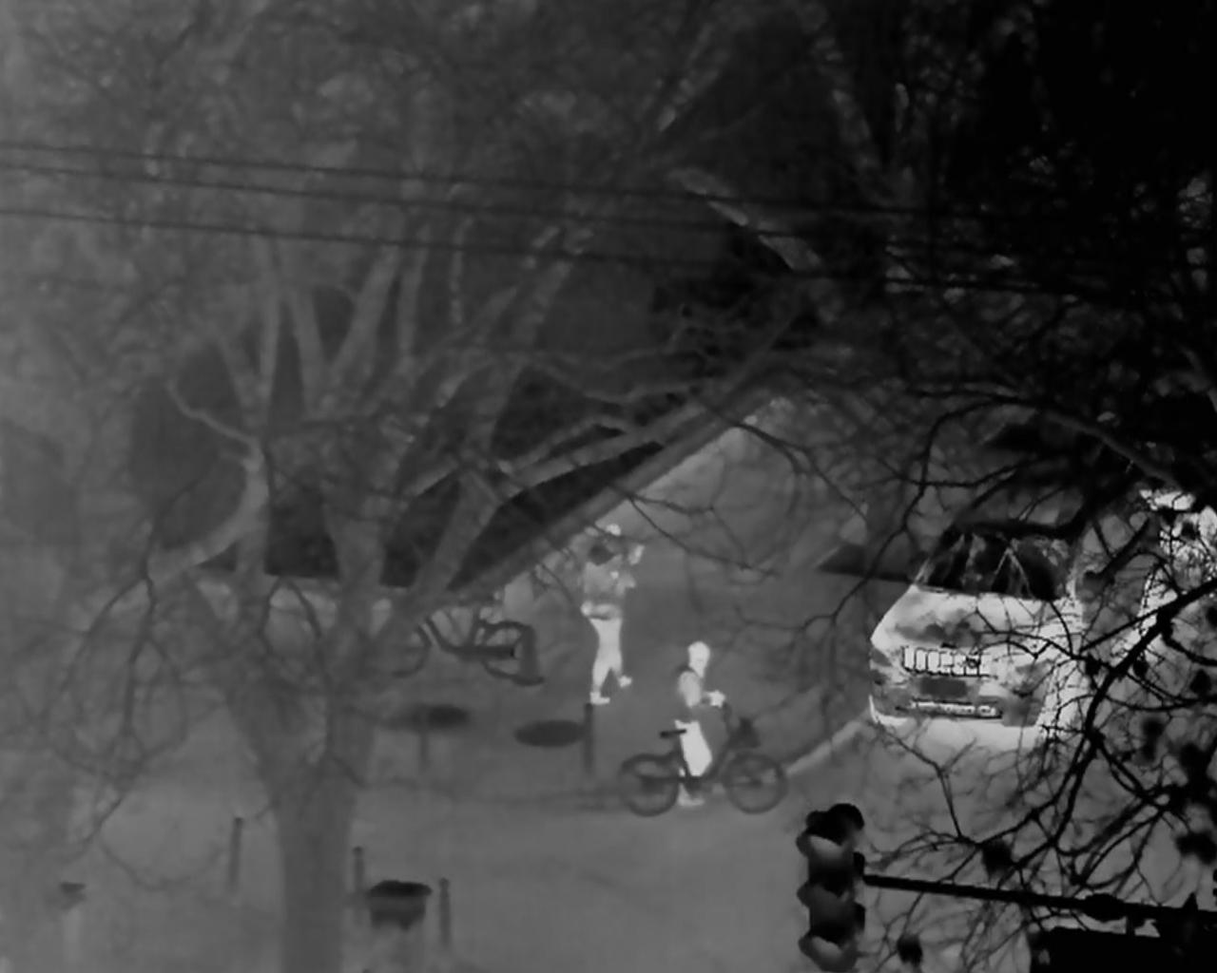person: (579, 525, 646, 708), (675, 639, 724, 806)
